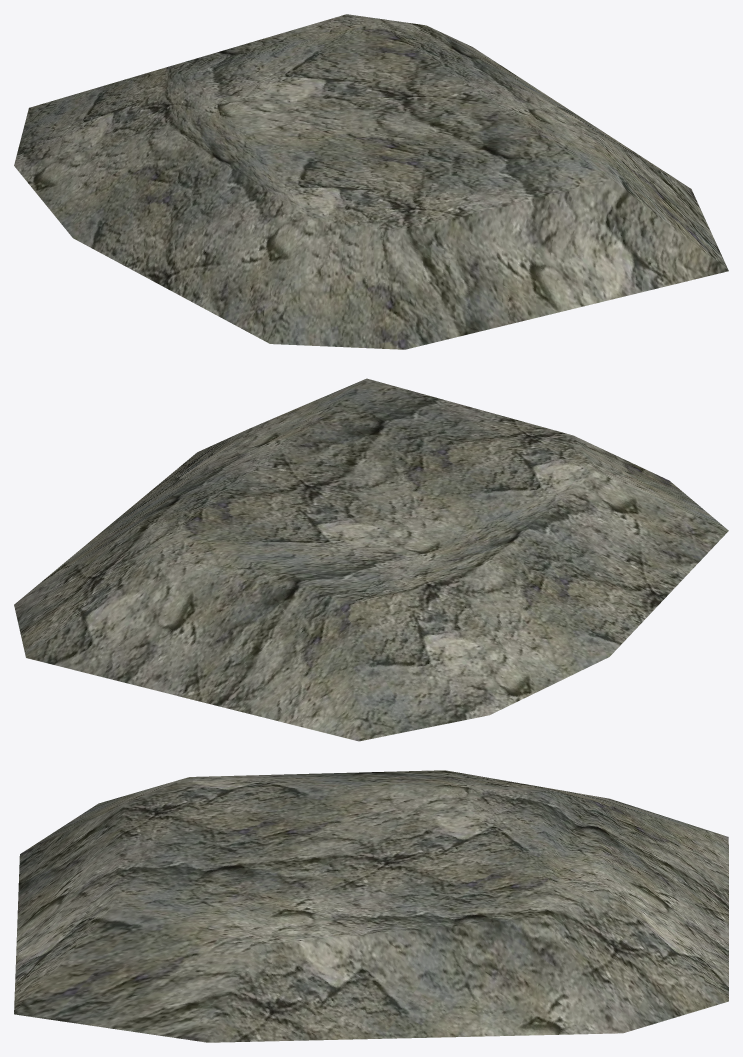
The model's file is MIN_LOB_STOMPERSTAND.glb.
3 renders of one model, top to bottom at view 1: azimuth 30°, elevation 25°; view 2: azimuth 150°, elevation 25°; view 3: azimuth 270°, elevation 25°, orthographic. The views are drawn at different scales.
Parts seen in each view (by area): view 1: Mesh; view 2: Mesh; view 3: Mesh.
Part boxes in pixels (x1=…): Mesh: x1=14, y1=14, x2=728, y2=349; Mesh: x1=14, y1=378, x2=728, y2=741; Mesh: x1=14, y1=770, x2=728, y2=1042.
Bounding box in the file's own units: 29.24 × 4.42 × 34.
1 material, 1 textured.
